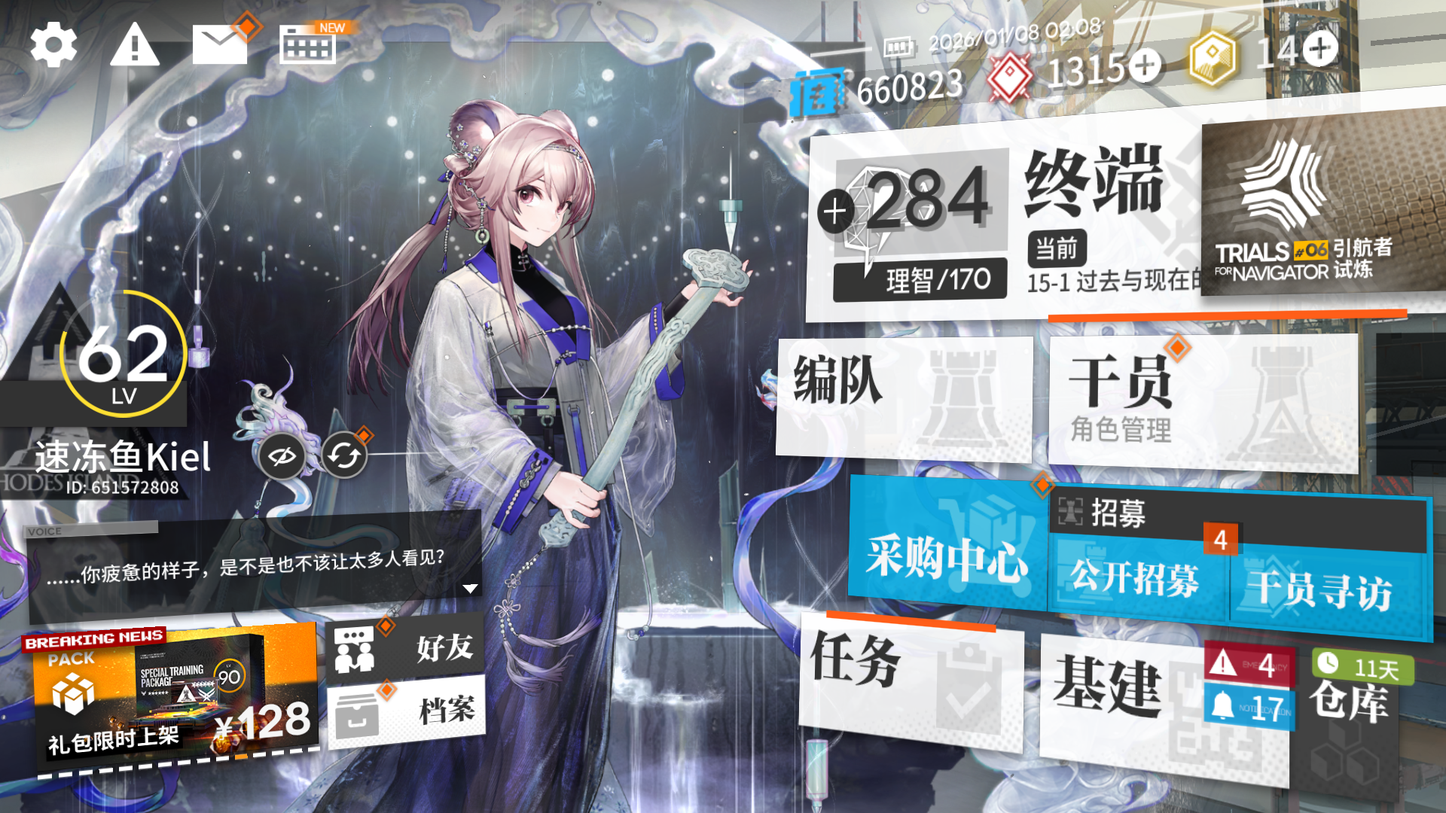home_button: (1009, 118, 1179, 233)
infrastructure_button: (1056, 635, 1216, 751)
